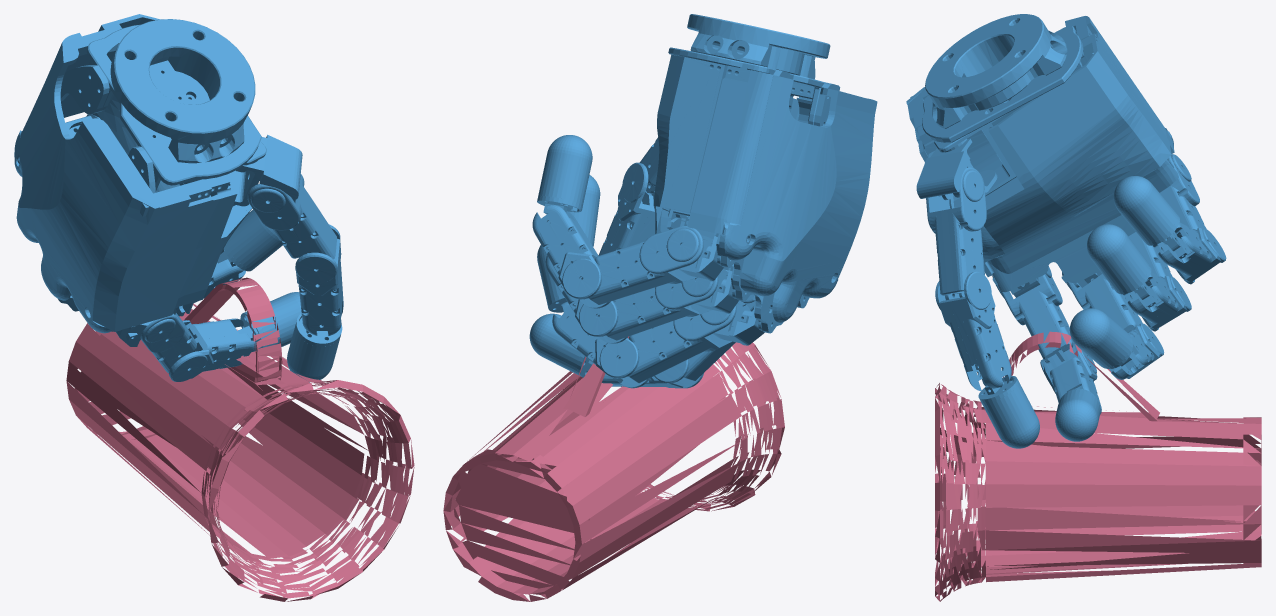
3 views of the same model, side by side, from view 1: azimuth 30°, elevation 25°; view 2: azimuth 150°, elevation 25°; view 3: azimuth 270°, elevation 25° (orthographic). The views are drawn at different scales.
Visible parts, largest first — view 1: 0; view 2: 0; view 3: 0.
Part boxes in pixels (left/top/right/bottom): 0: left=14, top=14, right=414, bottom=601; 0: left=443, top=14, right=877, bottom=601; 0: left=906, top=14, right=1261, bottom=601.
Bounding box in the file's own units: 0.1516 × 0.2661 × 0.1649.
